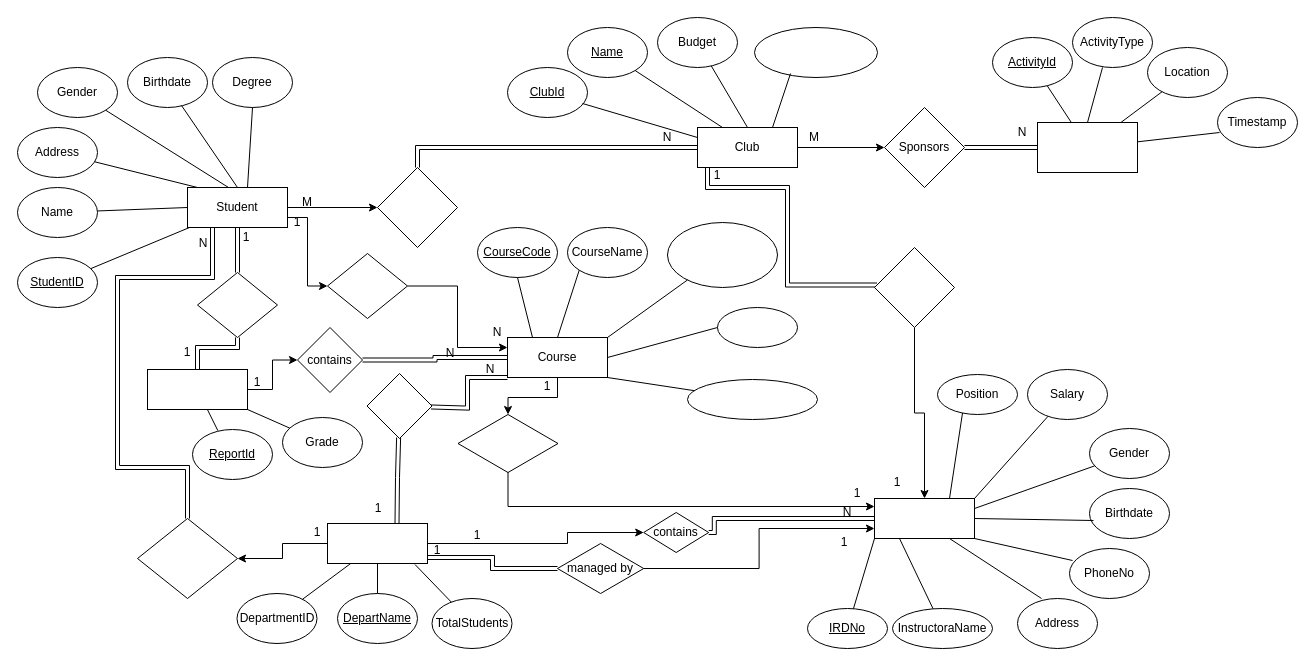
Some shapes in this 1315 by 666 pixel diagram are drawn without their labels. The centre of each missing label's shape, as x and y in pixels:
Activity: the point at 1087,147
Assigns: the point at 914,287
belogns to: the point at 417,207
CourseDescription: the point at 722,255
Date Of Final exam: the point at 752,399
Department: the point at 377,543
Enrolls: the point at 367,285
GradeReport: the point at 197,389
instructed by: the point at 507,443
Instructor: the point at 924,518
MeetingTimestamp: the point at 816,52
Obtains: the point at 237,305
Offers: the point at 399,405
Points: the point at 757,327
Supervises: the point at 187,558
